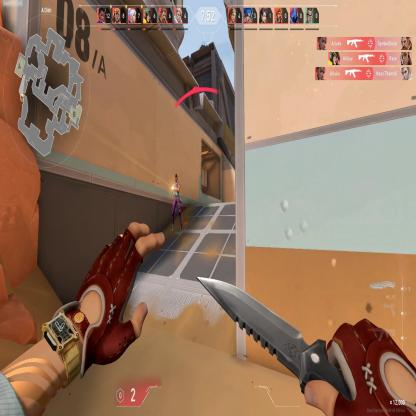enemy: (168, 172, 183, 233)
